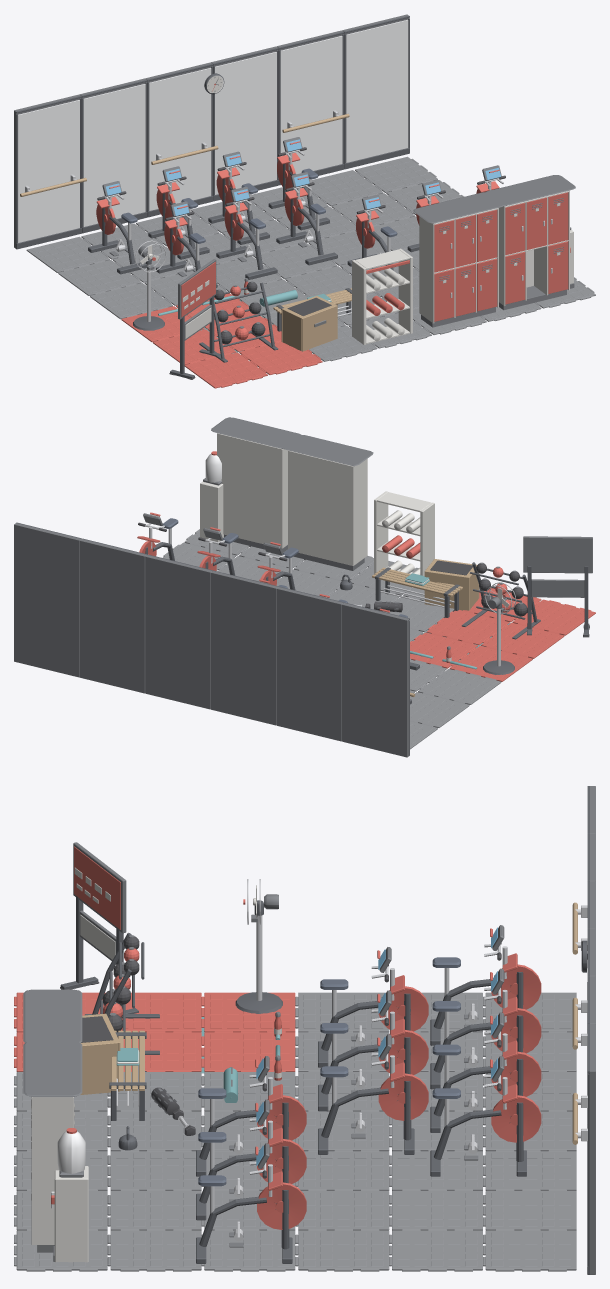
File: gym-and-fitness-studio-spin-studio-and-changing-room-b239e61a__33603.glb
3 views of the same model, one above another, from view 1: azimuth 30°, elevation 25°; view 2: azimuth 150°, elevation 25°; view 3: azimuth 270°, elevation 25° (orthographic). The views are drawn at different scales.
Visible parts, largest first — view 1: 047-mirror-wall-panel/1, 042-mirror-wall-panel-with-barre/1, 043-mirror-wall-panel/1, 046-mirror-wall-panel-with-barre/1, 045-mirror-wall-panel/1, 044-mirror-wall-panel-with-barre/1, 068-towel-shelf/0, 067-locker-bank-open-door/0, 066-locker-bank/0, 064-plyo-box/0, 067-locker-bank-open-door/1, 066-locker-bank/1 (+65 smaller); view 2: 042-mirror-wall-panel-with-barre/0, 046-mirror-wall-panel-with-barre/0, 044-mirror-wall-panel-with-barre/0, 047-mirror-wall-panel/0, 045-mirror-wall-panel/0, 043-mirror-wall-panel/0, 066-locker-bank/0, 067-locker-bank-open-door/0, 071-gym-signage-board/2, 068-towel-shelf/0, 066-locker-bank/1, 002-rubber-floor-tile/0 (+28 smaller); view 3: 067-locker-bank-open-door/0, 038-rubber-floor-tile/0, 036-rubber-floor-tile/0, 037-rubber-floor-tile/0, 040-rubber-floor-tile/0, 030-rubber-floor-tile/0, 031-rubber-floor-tile/0, 034-rubber-floor-tile/0, 028-rubber-floor-tile/0, 024-rubber-floor-tile/0, 032-rubber-floor-tile/0, 026-rubber-floor-tile/0 (+67 smaller).
Boxes of the visible parts, x1,y1,x2,y2 form: 047-mirror-wall-panel/1: (346, 19, 408, 162); 042-mirror-wall-panel-with-barre/1: (18, 100, 79, 242); 043-mirror-wall-panel/1: (83, 84, 145, 226); 046-mirror-wall-panel-with-barre/1: (280, 36, 342, 174); 045-mirror-wall-panel/1: (215, 52, 276, 194); 044-mirror-wall-panel-with-barre/1: (149, 68, 211, 210); 068-towel-shelf/0: (352, 248, 412, 344); 067-locker-bank-open-door/0: (499, 190, 569, 306); 066-locker-bank/0: (419, 208, 498, 323); 064-plyo-box/0: (281, 296, 337, 351); 067-locker-bank-open-door/1: (485, 175, 575, 310); 066-locker-bank/1: (413, 192, 503, 327); 042-mirror-wall-panel-with-barre/0: (342, 603, 409, 757); 046-mirror-wall-panel-with-barre/0: (79, 539, 146, 693); 044-mirror-wall-panel-with-barre/0: (211, 571, 277, 725); 047-mirror-wall-panel/0: (14, 523, 80, 677); 045-mirror-wall-panel/0: (145, 555, 212, 709); 043-mirror-wall-panel/0: (276, 587, 343, 741); 066-locker-bank/0: (288, 450, 367, 565); 067-locker-bank-open-door/0: (217, 433, 287, 548); 071-gym-signage-board/2: (523, 536, 592, 597); 068-towel-shelf/0: (374, 491, 434, 575); 066-locker-bank/1: (283, 435, 373, 570); 002-rubber-floor-tile/0: (418, 669, 501, 704); 067-locker-bank-open-door/0: (31, 1097, 73, 1244); 038-rubber-floor-tile/0: (295, 1230, 389, 1271); 036-rubber-floor-tile/0: (483, 1230, 576, 1271); 037-rubber-floor-tile/0: (389, 1230, 482, 1271); 040-rubber-floor-tile/0: (107, 1230, 201, 1271); 030-rubber-floor-tile/0: (483, 1191, 576, 1230); 031-rubber-floor-tile/0: (389, 1191, 482, 1230); 034-rubber-floor-tile/0: (107, 1191, 201, 1230); 028-rubber-floor-tile/0: (107, 1151, 201, 1190); 024-rubber-floor-tile/0: (483, 1151, 576, 1190); 032-rubber-floor-tile/0: (295, 1191, 389, 1230); 026-rubber-floor-tile/0: (295, 1151, 389, 1190).
Bounding box in the file's own units: 7.44 × 2.4 × 6.21.
